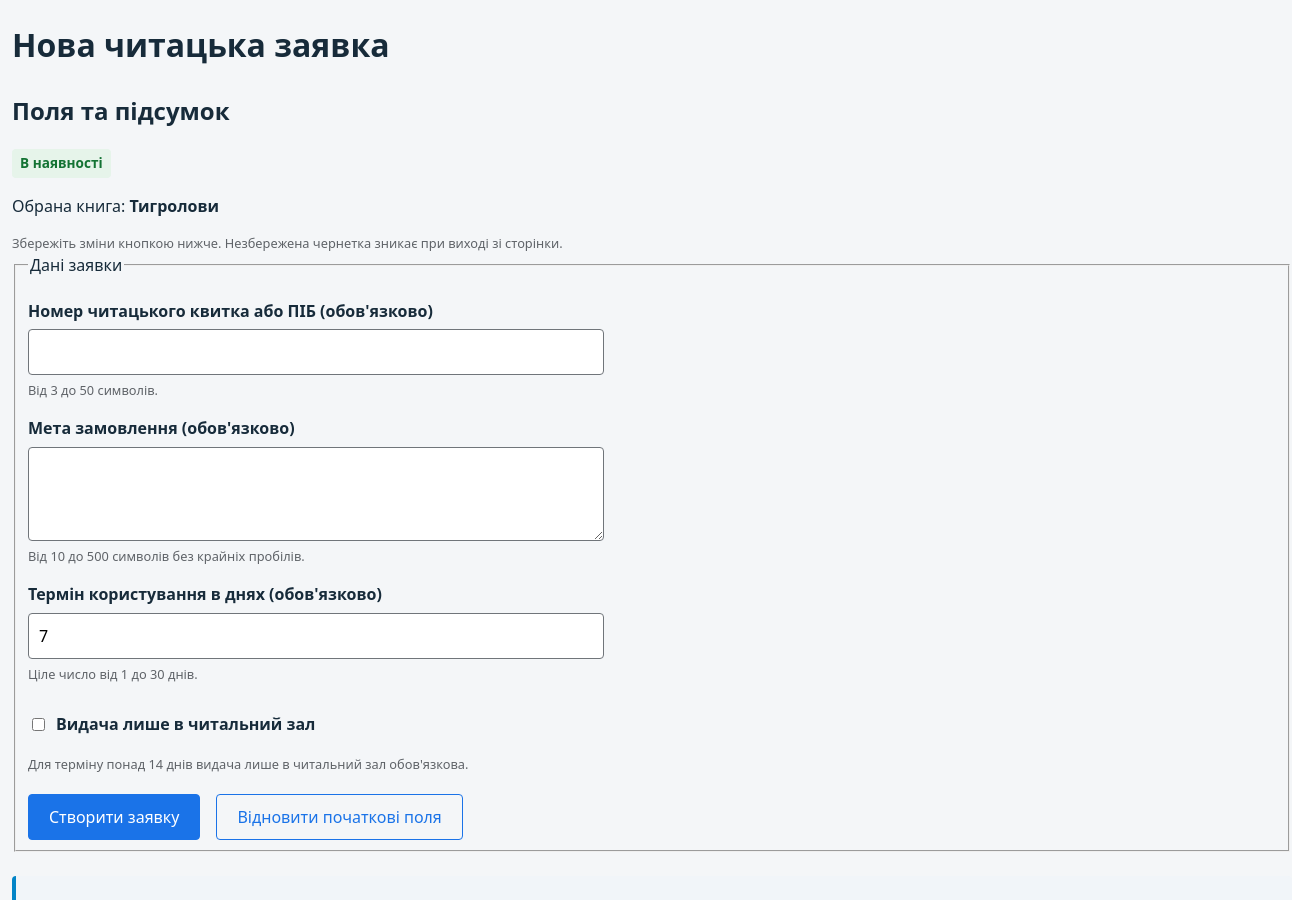
Scenario: зберігає введення чернетки при відмові сервісу
The image size is (1292, 900).
In the field labelled "Номер читацького квитка або ПІБ (обов'язково)": (316, 352) [28,329,604,375], type "ЧК-10482"
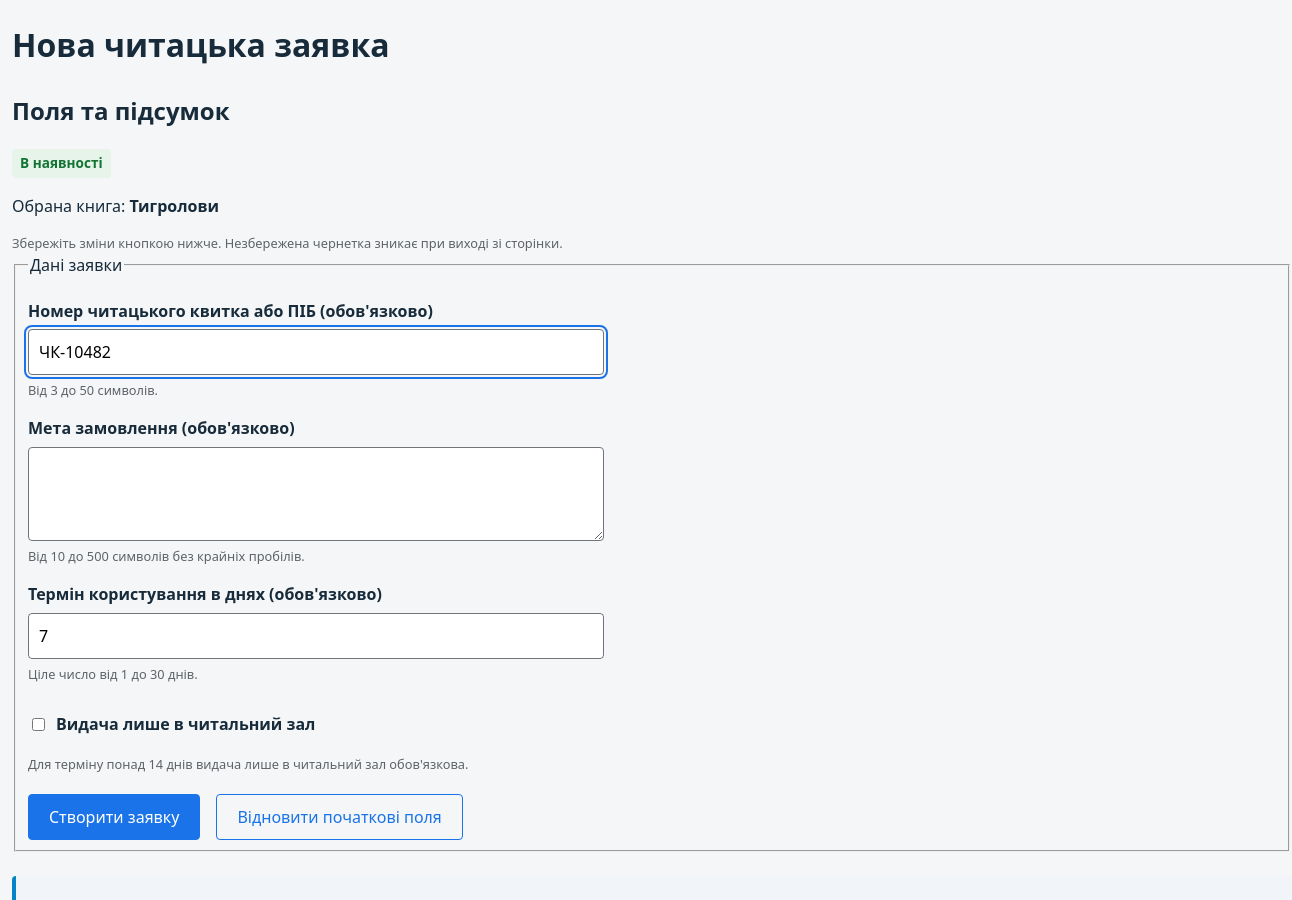
In the text box labelled "Мета замовлення (обов'язково)": (316, 494) [28,447,604,541], type "Опрацювання матеріалів для курсового проєкту з автоматизації."
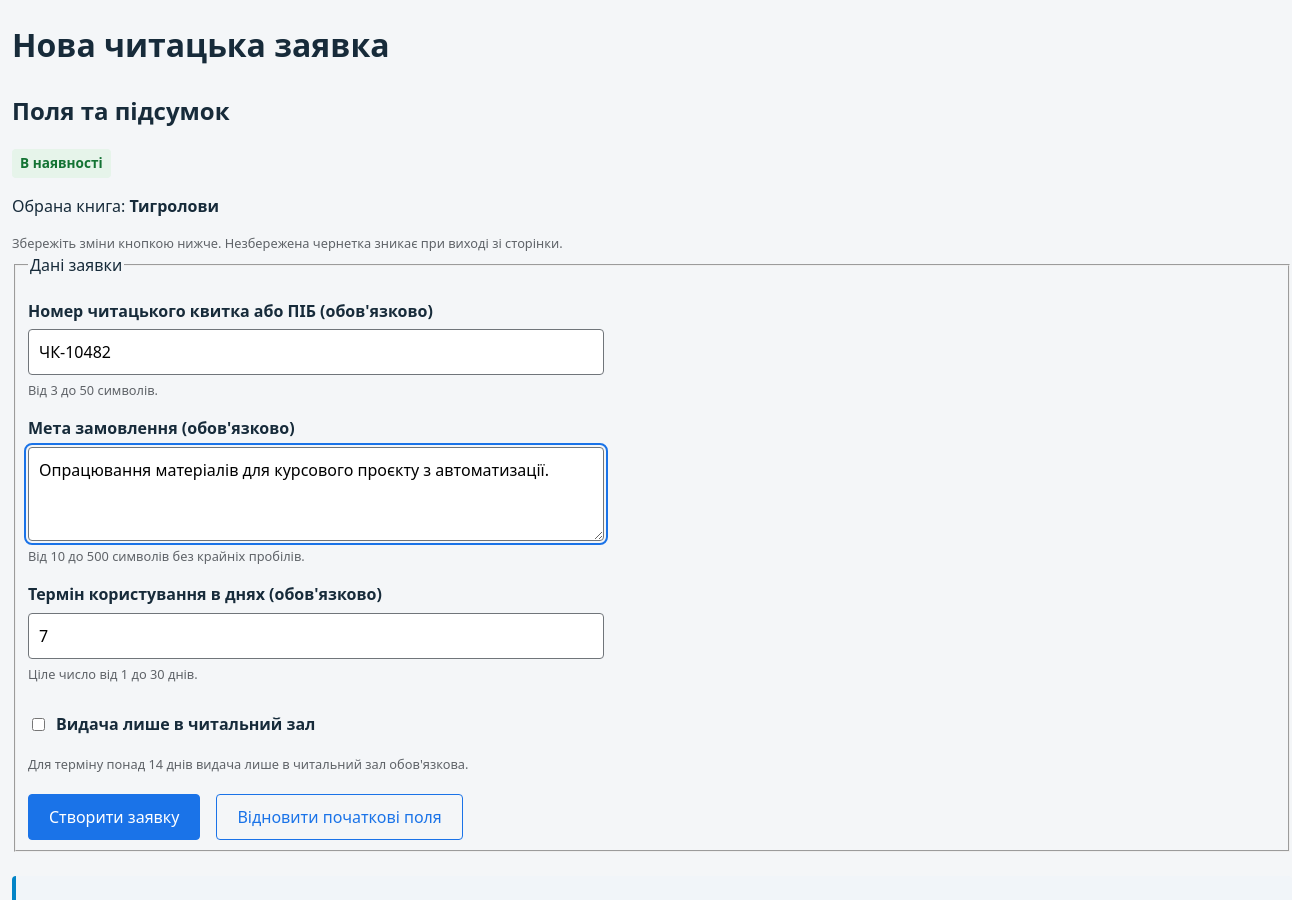
Click the button "Створити заявку": (114, 817) [28,794,200,840]
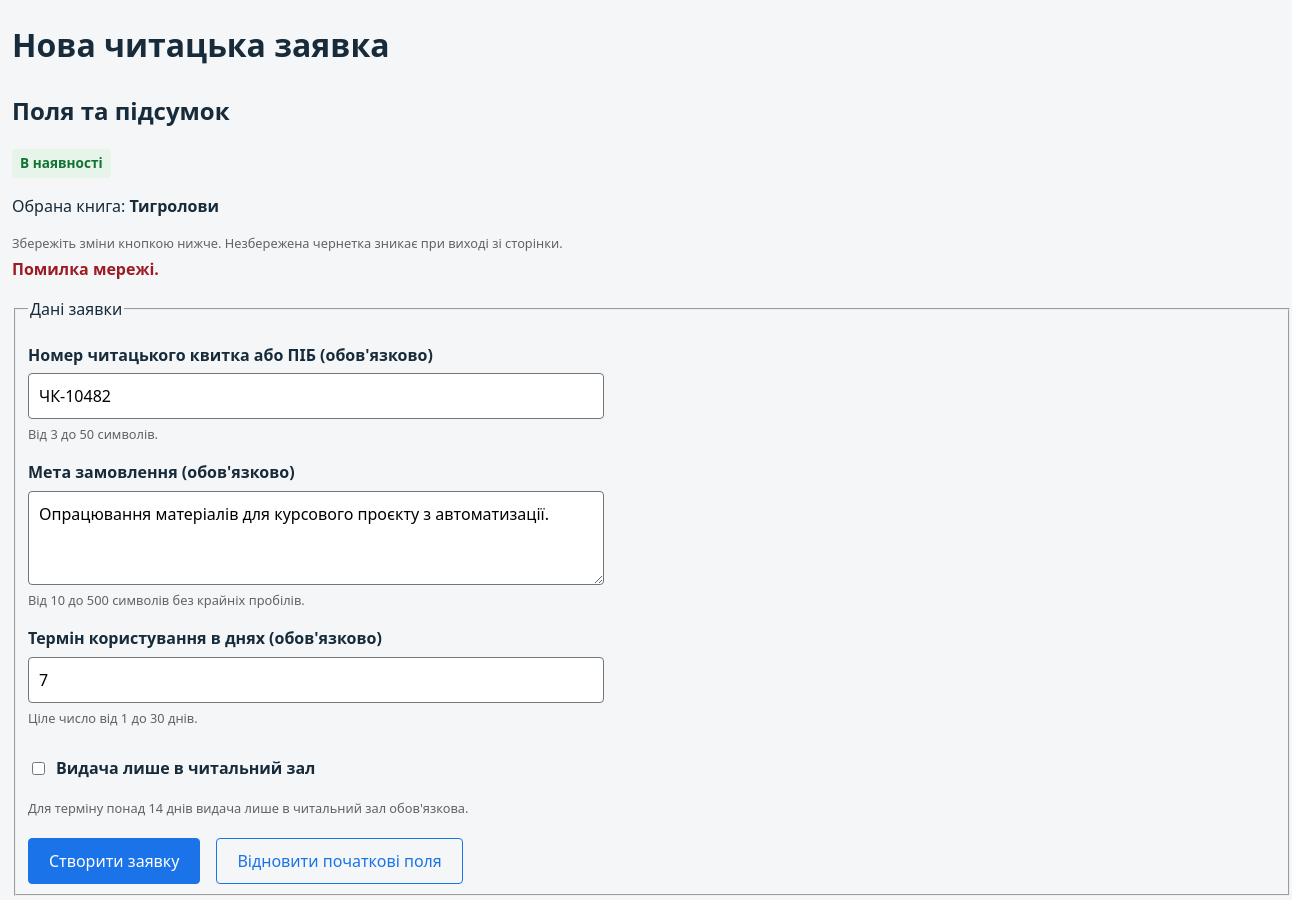
Expected: the message reads "Помилка мережі.", [12,258,159,280]
